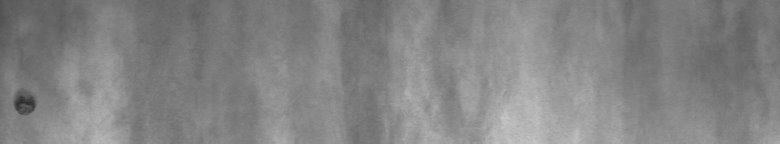fi: (8, 83, 92, 121)
